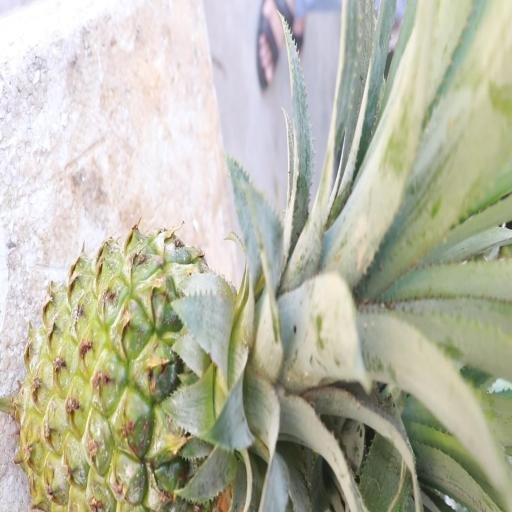------------------------------: (21, 236, 306, 512)
